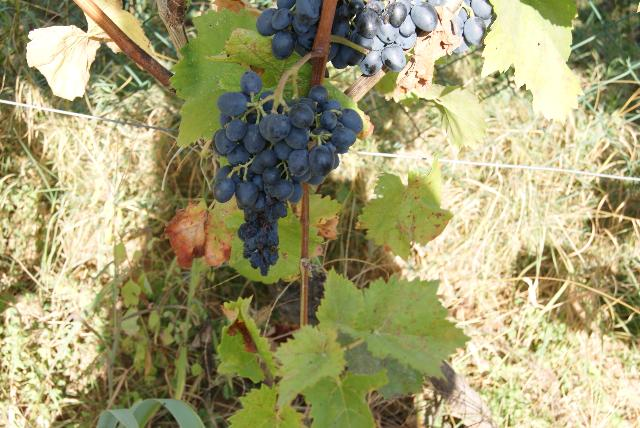grapes: (212, 71, 362, 276), (330, 0, 446, 75), (256, 0, 322, 60), (451, 0, 492, 52)
